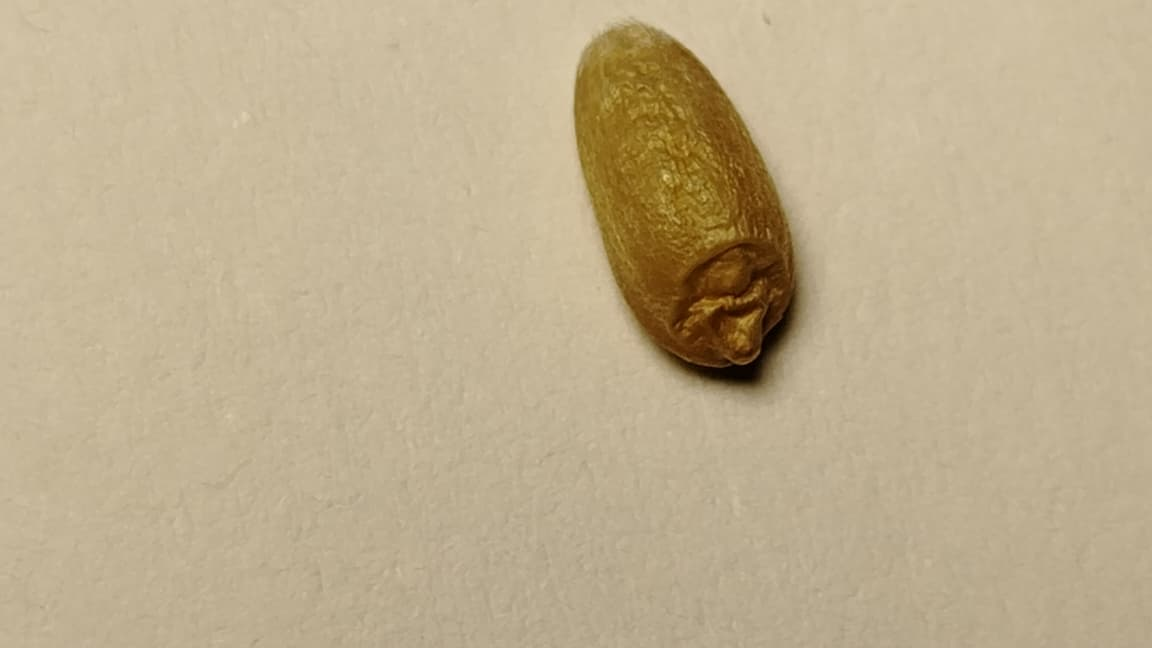healthy: (575, 21, 793, 366)
